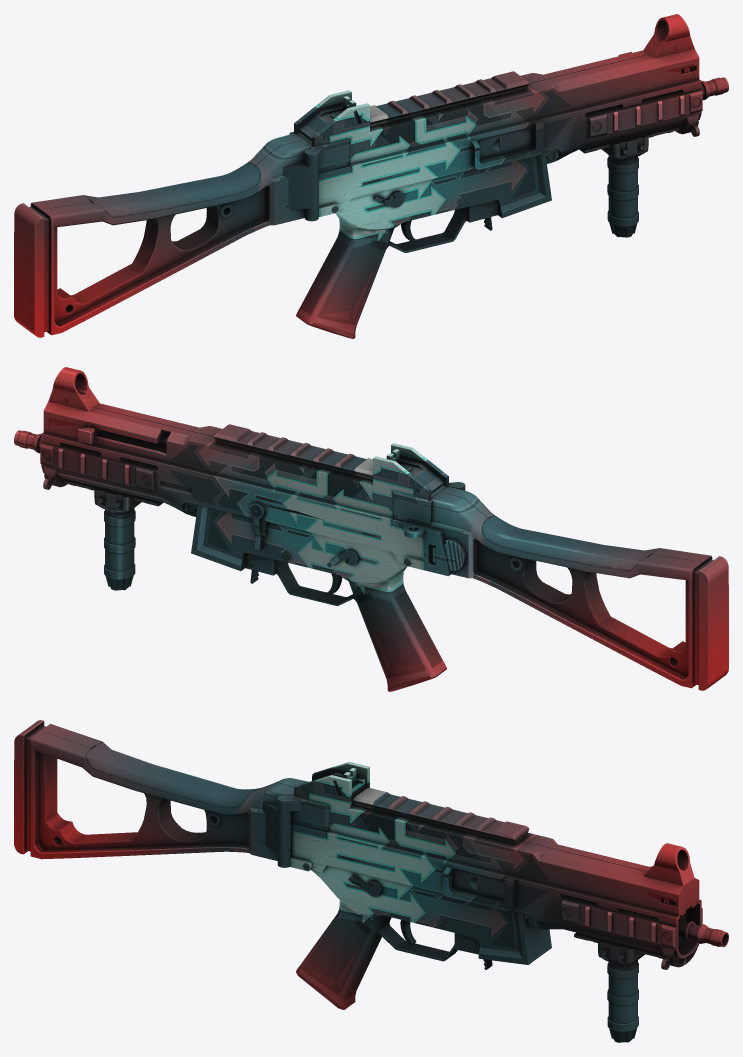
File: w_combatpdw_arrows.glb
3 renders of one model, top to bottom at view 1: azimuth 30°, elevation 25°; view 2: azimuth 150°, elevation 25°; view 3: azimuth 330°, elevation 25°, orthographic.
Parts seen in each view (by area): view 1: Gun_Root; view 2: Gun_Root; view 3: Gun_Root.
Part boxes in pixels (<box>): Gun_Root: <box>14,14,728,338</box>; Gun_Root: <box>14,367,728,691</box>; Gun_Root: <box>14,720,728,1042</box>.
Bounding box in the file's own units: 0.7888 × 0.2575 × 0.0747.
1 material, 1 textured.
